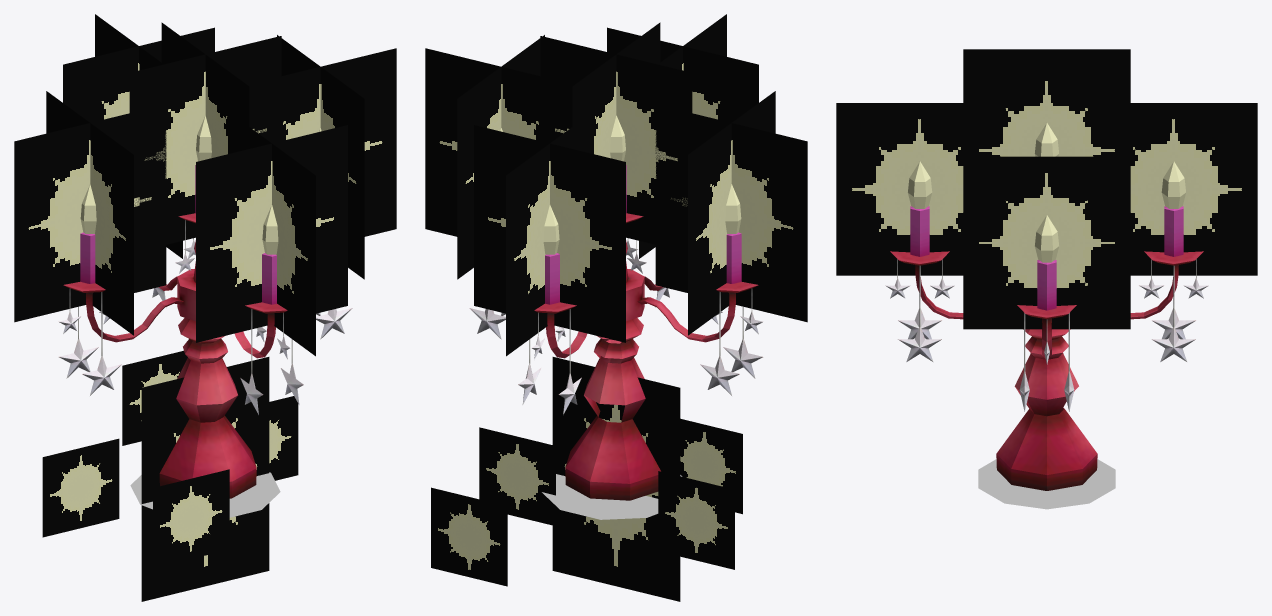
File: gorgeousstand.obj
The picture shows the model from 3 angles, left to right: view 1: azimuth 30°, elevation 25°; view 2: azimuth 150°, elevation 25°; view 3: azimuth 270°, elevation 25°; orthographic projection. The views are drawn at different scales.
Parts seen in each view (by area): view 1: mawaru, gorgeousstand, s1, s2, s4, s3; view 2: mawaru, gorgeousstand, s1, s4, s3, s2; view 3: mawaru, gorgeousstand.
Boxes of the visible parts, x1,y1,x2,y2 form: mawaru: [14, 14, 396, 414]; gorgeousstand: [129, 22, 281, 517]; s1: [42, 357, 269, 601]; s2: [153, 469, 229, 568]; s4: [122, 350, 187, 445]; s3: [269, 396, 298, 480]; mawaru: [425, 14, 807, 414]; gorgeousstand: [540, 22, 692, 519]; s1: [552, 357, 734, 601]; s4: [431, 487, 507, 586]; s3: [479, 427, 555, 526]; s2: [680, 418, 742, 514]; mawaru: [836, 49, 1257, 411]; gorgeousstand: [963, 64, 1130, 509].
Bounding box in the file's own units: 2.83 × 3.76 × 2.83.
